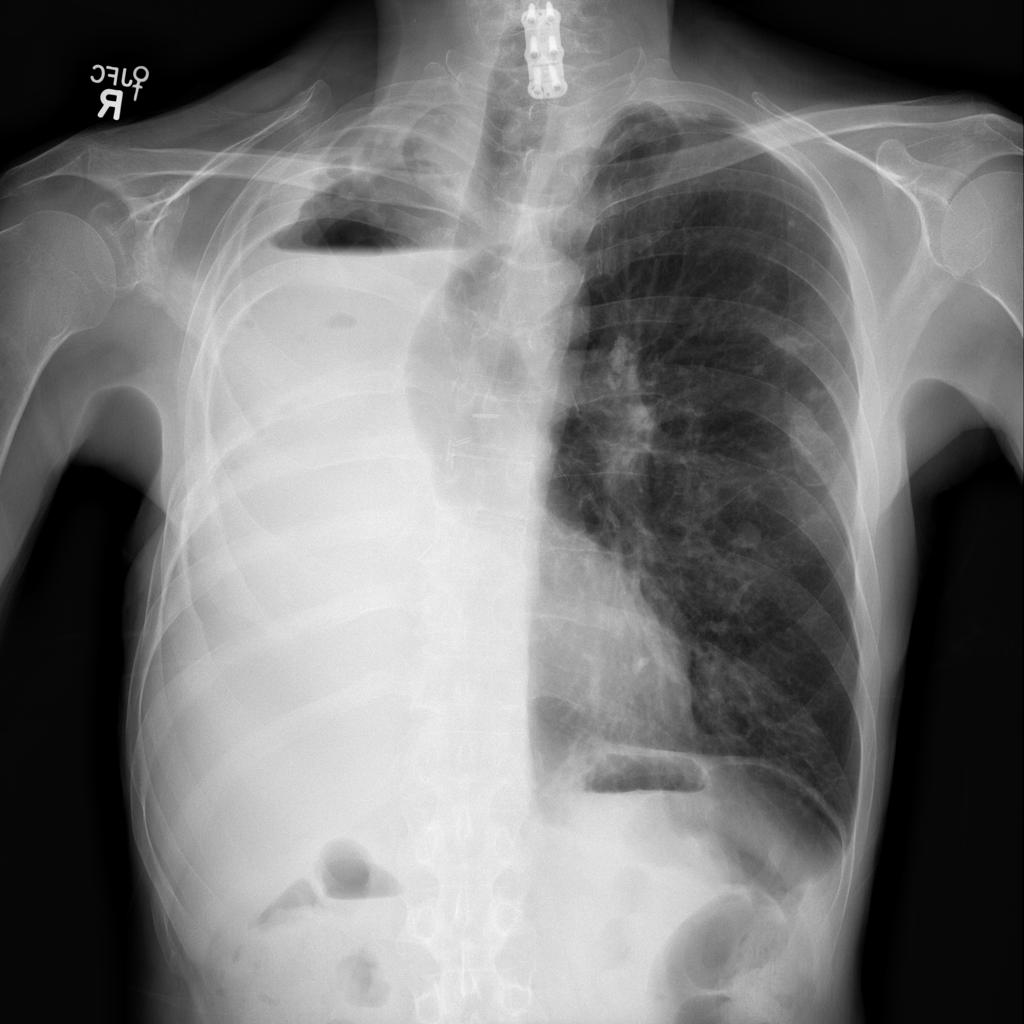nodule: (721, 512, 774, 564), (759, 320, 814, 368)
